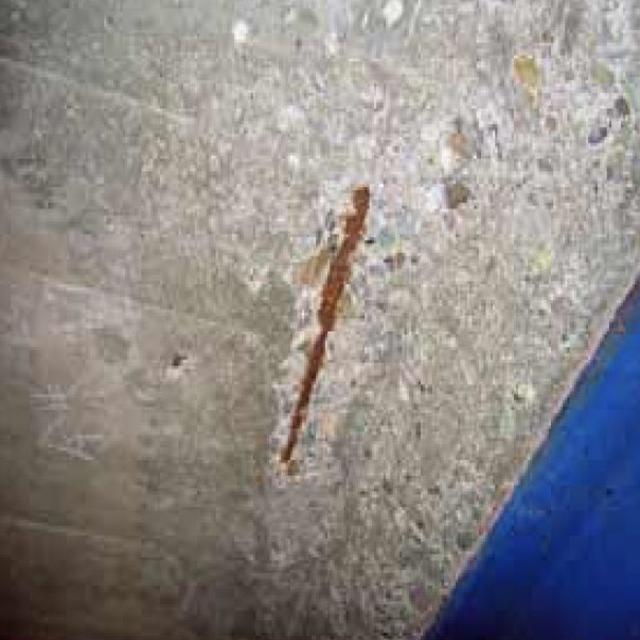spalling: (249, 174, 394, 493)
